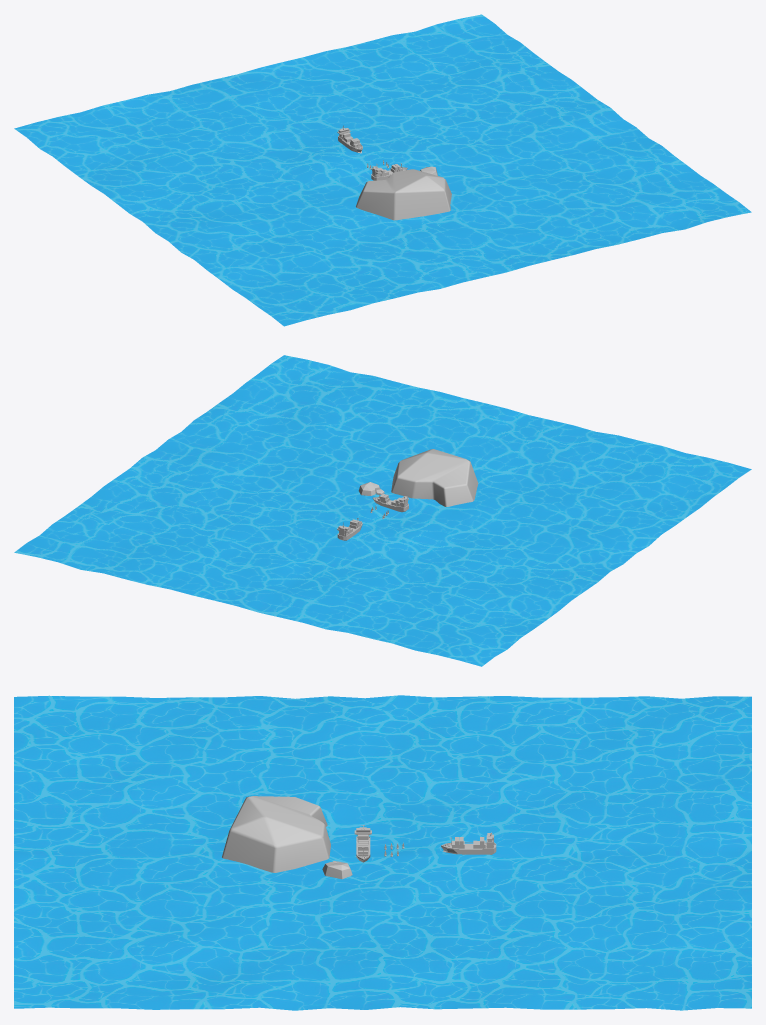
File: changjing7_5.fbx
3 views of the same model, one above another, from view 1: azimuth 30°, elevation 25°; view 2: azimuth 150°, elevation 25°; view 3: azimuth 270°, elevation 25° (orthographic). The views are drawn at different scales.
Parts seen in each view (by area): view 1: changjing_7_5; view 2: changjing_7_5; view 3: changjing_7_5, HuoLun4.
Part boxes in pixels (bbox=[...]): changjing_7_5: bbox=[14, 14, 751, 326]; changjing_7_5: bbox=[14, 355, 751, 666]; changjing_7_5: bbox=[14, 695, 751, 1010]; HuoLun4: bbox=[441, 832, 496, 854].
Size of the model in its own units: 50226 by 3911 by 50226.
